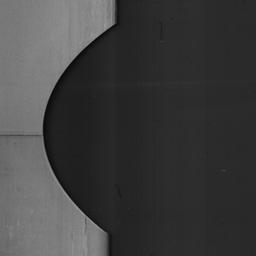Crescent gap: (43, 25, 114, 232)
